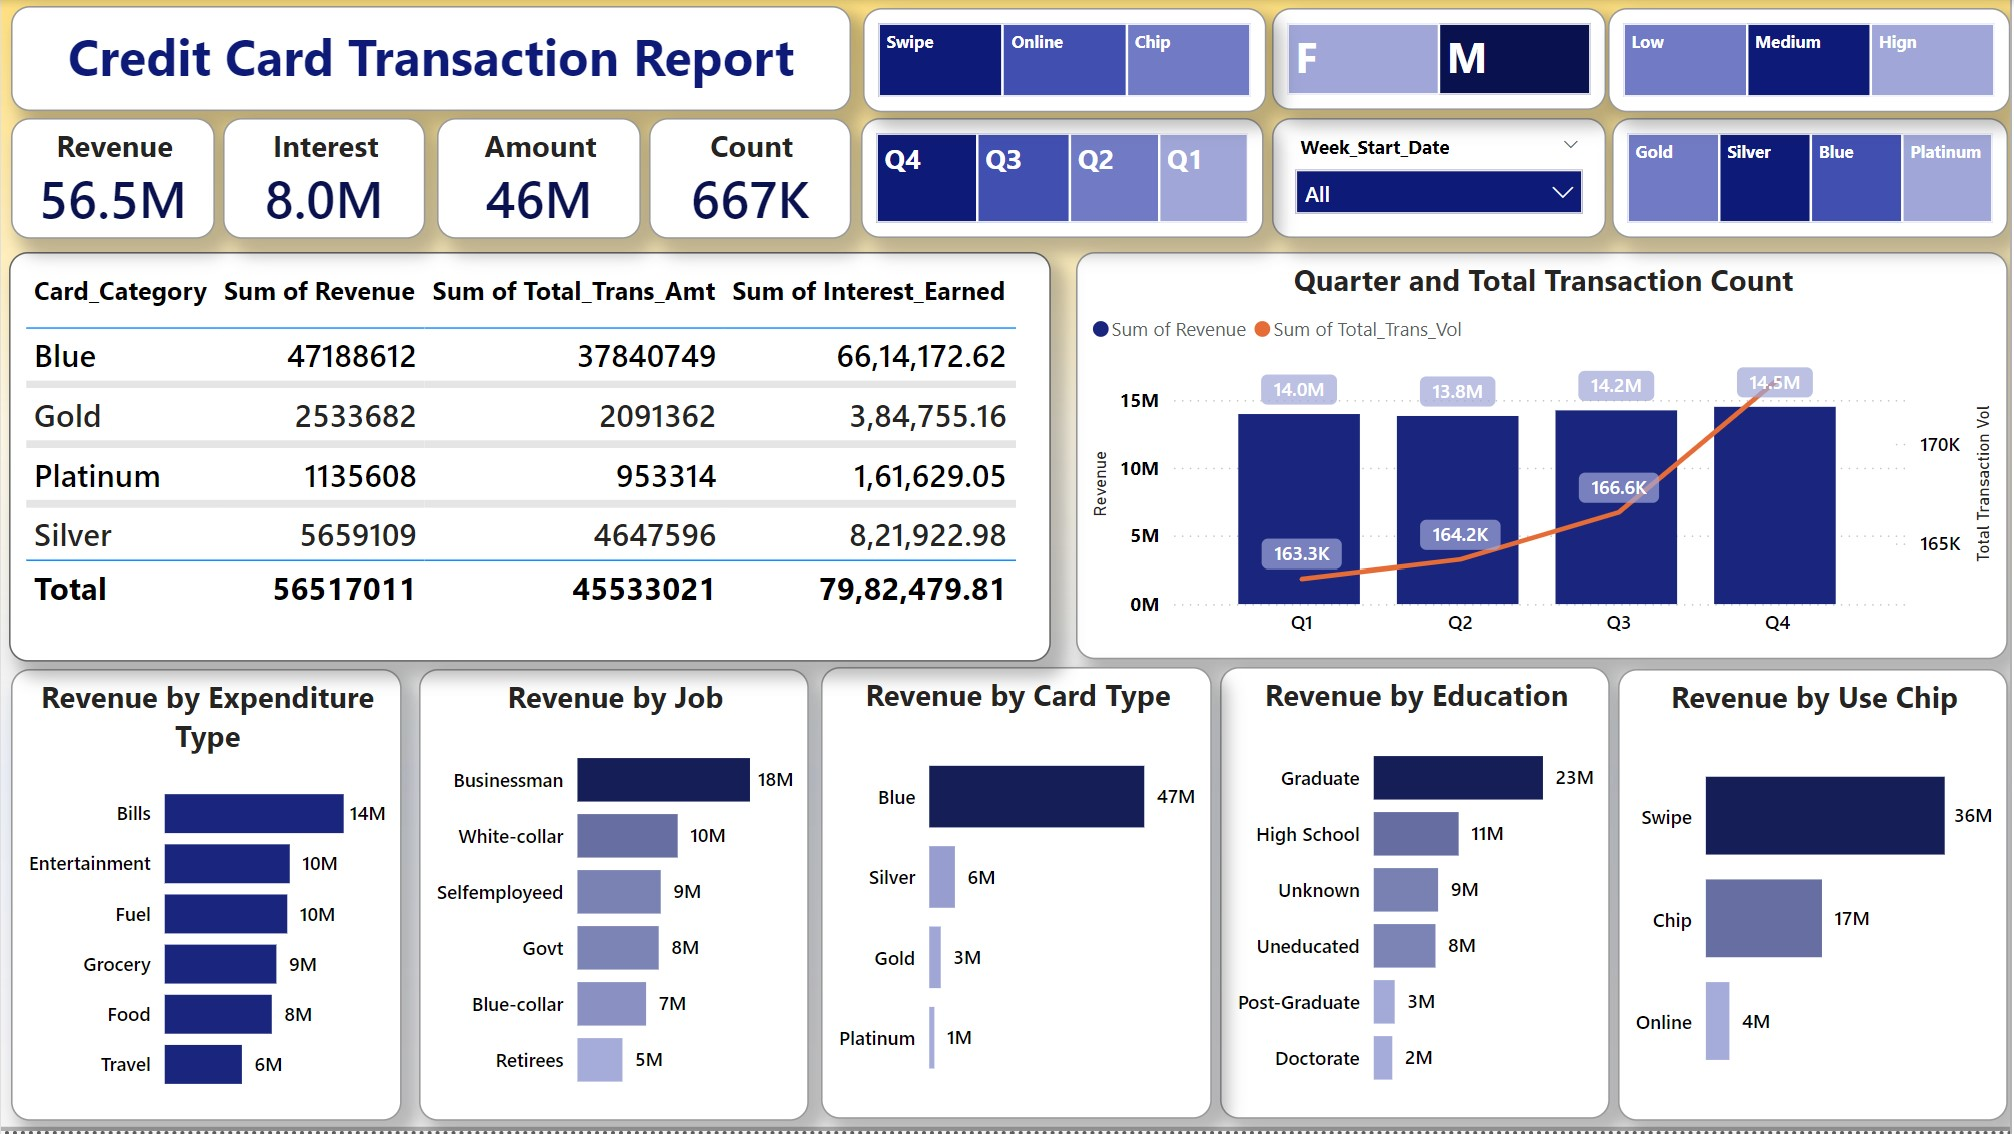

What the dashboard file says about the page in this screenshot:
{"tool":"powerbi","page":{"name":"CC Transaction","canvas":[1280,720],"ordinal":1},"visuals":[{"type":"textbox","box":[5.8,3.5,535.7,66.8],"z":0},{"type":"lineStackedColumnComboChart","title":"Quarter and Total Transaction Count","fields":{"Category":["ccdb credit_card.Qtr"],"Y":["Sum(ccdb credit_card.Revenue)"],"Y2":["Sum(ccdb credit_card.Total_Trans_Vol)"]},"box":[684.6,160.6,594.1,258.8],"z":1000},{"type":"barChart","title":"Revenue by Expenditure Type","fields":{"Category":["ccdb credit_card.Exp Type"],"Y":["Sum(ccdb credit_card.Revenue)"]},"box":[5.8,426.2,248.8,288],"z":2000},{"type":"barChart","title":"Revenue by Education","fields":{"Y":["Sum(ccdb credit_card.Revenue)"],"Category":["ccdb customer.Education_Level"]},"box":[776.4,424.5,248.6,288.1],"z":3000},{"type":"barChart","title":"Revenue by Job","fields":{"Y":["Sum(ccdb credit_card.Revenue)"],"Category":["ccdb customer.Customer_Job"]},"box":[266.5,425.8,248.6,288.1],"z":4000},{"type":"barChart","title":"Revenue by Card Type","fields":{"Y":["Sum(ccdb credit_card.Revenue)"],"Category":["ccdb credit_card.Card_Category"]},"box":[522.7,424.5,248.6,288.1],"z":5000},{"type":"barChart","title":"Revenue by Use Chip","fields":{"Y":["Sum(ccdb credit_card.Revenue)"],"Category":["ccdb credit_card.Use Chip"]},"box":[1030.1,425.8,248.6,288.1],"z":6000},{"type":"tableEx","fields":{"Values":["ccdb credit_card.Card_Category","Sum(ccdb credit_card.Revenue)","Sum(ccdb credit_card.Total_Trans_Amt)","Sum(ccdb credit_card.Interest_Earned)"]},"box":[4.6,160.1,663.6,260.4],"z":7000},{"type":"card","title":"Revenue","fields":{"Values":["Sum(ccdb credit_card.Revenue)"]},"box":[5.8,74.9,130.2,77.2],"z":8000},{"type":"card","title":"Interest","fields":{"Values":["Sum(ccdb credit_card.Interest_Earned)"]},"box":[141.7,74.9,129,77.2],"z":9000},{"type":"card","title":"Amount","fields":{"Values":["Sum(ccdb credit_card.Total_Trans_Amt)"]},"box":[277.6,74.9,130.2,77.2],"z":10000},{"type":"card","title":"Count","fields":{"Values":["Sum(ccdb credit_card.Total_Trans_Vol)"]},"box":[413.6,74.9,129,77.2],"z":11000},{"type":"slicer","fields":{"Values":["ccdb credit_card.Week_Start_Date"]},"box":[809.6,75.2,212.9,76.5],"z":12000},{"type":"treemap","fields":{"Group":["ccdb credit_card.Qtr"],"Values":["Avg(ccdb credit_card.Client_Num)"]},"box":[548.2,75.2,256,76.5],"z":13000},{"type":"treemap","fields":{"Values":["Avg(ccdb credit_card.Client_Num)"],"Details":["ccdb customer.Gender"]},"box":[809.6,5.1,212.9,65],"z":14000},{"type":"treemap","fields":{"Values":["Avg(ccdb credit_card.Client_Num)"],"Group":["ccdb credit_card.Card_Category"]},"box":[1026.3,75.2,252.4,76.5],"z":15000},{"type":"treemap","fields":{"Values":["Avg(ccdb credit_card.Client_Num)"],"Group":["ccdb customer.IncomeGroup"]},"box":[1023.7,5.1,256.3,66.3],"z":16000},{"type":"treemap","fields":{"Values":["Avg(ccdb credit_card.Client_Num)"],"Group":["ccdb credit_card.Use Chip"]},"box":[549.5,5.1,256.3,66.3],"z":17000}]}

Visuals, with their boxes in screenshot pixels (x1, y1, x2, y2), scaled from the page's 1280x720 canvas onto the 2014x1134 screenshot:
textbox: {"x1": 9, "y1": 6, "x2": 852, "y2": 111}
"Quarter and Total Transaction Count" lineStackedColumnComboChart: {"x1": 1077, "y1": 253, "x2": 2012, "y2": 661}
"Revenue by Expenditure Type" barChart: {"x1": 9, "y1": 671, "x2": 401, "y2": 1125}
"Revenue by Education" barChart: {"x1": 1222, "y1": 669, "x2": 1613, "y2": 1122}
"Revenue by Job" barChart: {"x1": 419, "y1": 671, "x2": 810, "y2": 1124}
"Revenue by Card Type" barChart: {"x1": 822, "y1": 669, "x2": 1214, "y2": 1122}
"Revenue by Use Chip" barChart: {"x1": 1621, "y1": 671, "x2": 2012, "y2": 1124}
tableEx - ccdb credit_card.Card_Category x Sum(ccdb credit_card.Revenue): {"x1": 7, "y1": 252, "x2": 1051, "y2": 662}
"Revenue" card: {"x1": 9, "y1": 118, "x2": 214, "y2": 240}
"Interest" card: {"x1": 223, "y1": 118, "x2": 426, "y2": 240}
"Amount" card: {"x1": 437, "y1": 118, "x2": 642, "y2": 240}
"Count" card: {"x1": 651, "y1": 118, "x2": 854, "y2": 240}
slicer - ccdb credit_card.Week_Start_Date: {"x1": 1274, "y1": 118, "x2": 1609, "y2": 239}
treemap - ccdb credit_card.Qtr x Avg(ccdb credit_card.Client_Num): {"x1": 863, "y1": 118, "x2": 1265, "y2": 239}
treemap - Avg(ccdb credit_card.Client_Num) x ccdb customer.Gender: {"x1": 1274, "y1": 8, "x2": 1609, "y2": 110}
treemap - Avg(ccdb credit_card.Client_Num) x ccdb credit_card.Card_Category: {"x1": 1615, "y1": 118, "x2": 2012, "y2": 239}
treemap - Avg(ccdb credit_card.Client_Num) x ccdb customer.IncomeGroup: {"x1": 1611, "y1": 8, "x2": 2013, "y2": 112}
treemap - Avg(ccdb credit_card.Client_Num) x ccdb credit_card.Use Chip: {"x1": 865, "y1": 8, "x2": 1268, "y2": 112}
